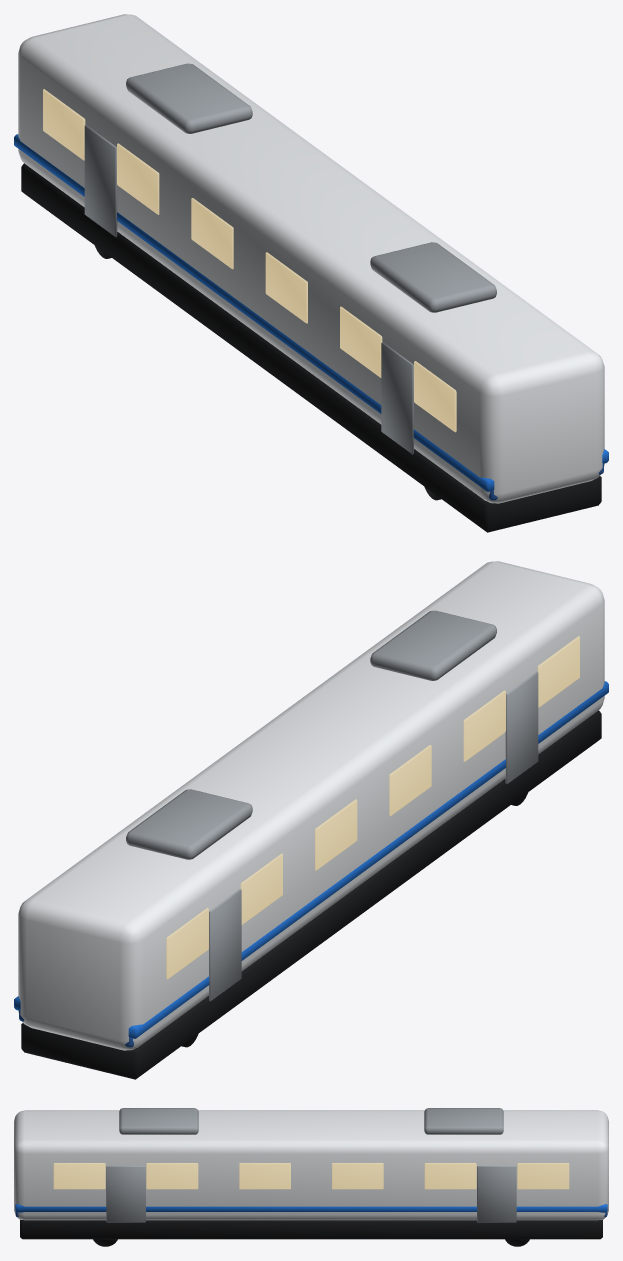
File: metro_coach.glb
The picture shows the model from 3 angles, top to bottom: view 1: azimuth 30°, elevation 25°; view 2: azimuth 150°, elevation 25°; view 3: azimuth 270°, elevation 25°; orthographic projection. The views are drawn at different scales.
Visible parts, largest first — view 1: Shell, Skirt, RoofAC2, RoofAC1, Stripe, DoorL1, DoorL0, Win-13, Win-14, Win-10, Win-12, Win-11 (+1 smaller); view 2: Shell, Skirt, RoofAC1, RoofAC2, Stripe, DoorL0, DoorL1, Win-11, Win-12, Win-15, Win-13, Win-14 (+1 smaller); view 3: Shell, Skirt, Stripe, DoorR0, DoorR1, RoofAC1, RoofAC2, Win10, Win15, Win11, Win14, Win12 (+1 smaller).
Boxes of the visible parts, x1,y1,x2,y2 form: Shell: (18, 14, 604, 503); Skirt: (21, 163, 601, 532); RoofAC2: (126, 63, 252, 133); RoofAC1: (370, 242, 496, 312); Stripe: (14, 134, 608, 491); DoorL1: (84, 124, 117, 236); DoorL0: (381, 342, 413, 454); Win-13: (191, 198, 233, 269); Win-14: (117, 143, 159, 214); Win-10: (414, 361, 456, 432); Win-12: (265, 252, 307, 323); Win-11: (340, 306, 382, 377); Shell: (18, 561, 604, 1050); Skirt: (21, 710, 601, 1079); RoofAC1: (370, 610, 496, 680); RoofAC2: (126, 789, 252, 859); Stripe: (14, 681, 608, 1038); DoorL0: (505, 671, 538, 783); DoorL1: (209, 889, 241, 1001); Win-11: (463, 690, 505, 761); Win-12: (389, 745, 431, 816); Win-15: (166, 908, 208, 979); Win-13: (315, 799, 357, 870); Win-14: (240, 853, 282, 924); Shell: (14, 1110, 608, 1220); Skirt: (20, 1220, 602, 1239); Stripe: (15, 1204, 607, 1212); DoorR0: (106, 1166, 145, 1222); DoorR1: (477, 1166, 516, 1222); RoofAC1: (119, 1108, 198, 1134); RoofAC2: (424, 1108, 503, 1134); Win10: (53, 1163, 105, 1189); Win15: (517, 1163, 569, 1189); Win11: (146, 1163, 198, 1189); Win14: (424, 1163, 476, 1189); Win12: (239, 1163, 290, 1189).
Bounding box in the file's own units: 3 × 4.21 × 19.5.
